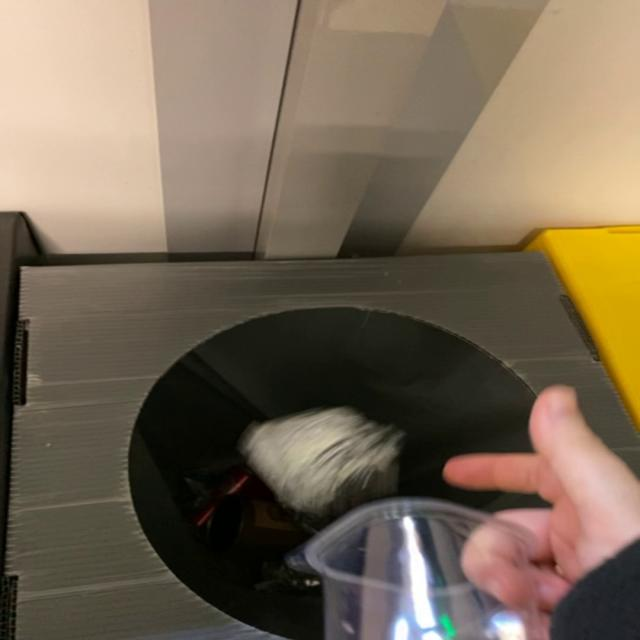bin: (2, 252, 640, 640)
metal: (239, 407, 405, 531)
